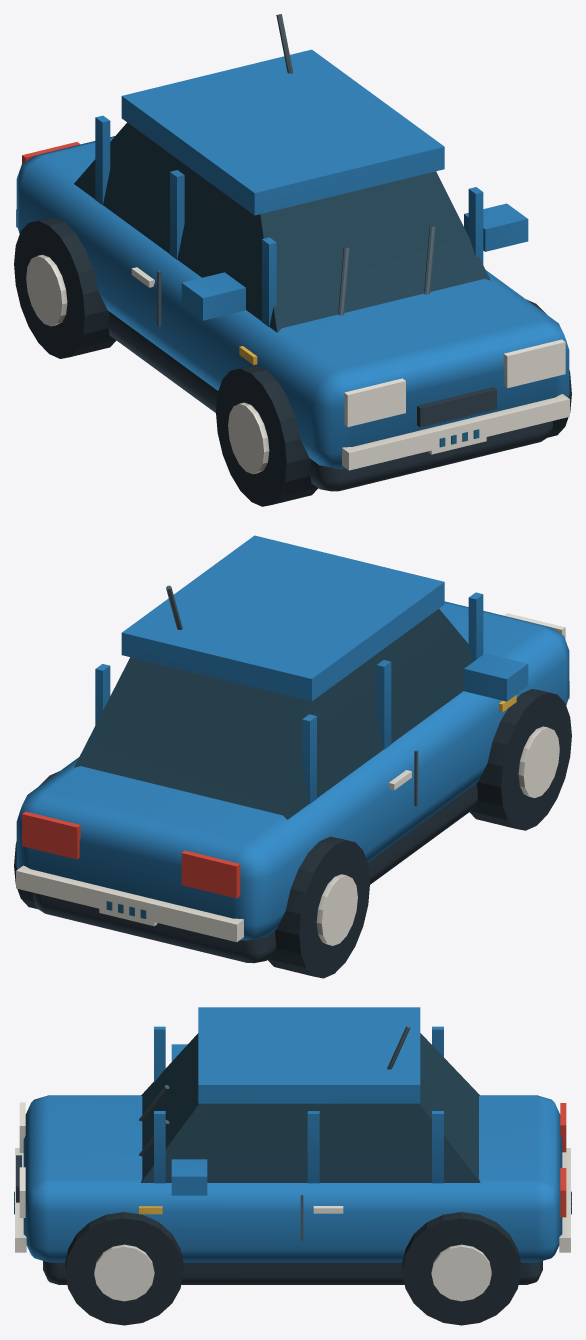
The model's file is car-blue.glb.
The picture shows the model from 3 angles, top to bottom: view 1: azimuth 30°, elevation 25°; view 2: azimuth 150°, elevation 25°; view 3: azimuth 270°, elevation 25°; orthographic projection. The views are drawn at different scales.
Visible parts, largest first — view 1: body, glazed cabin, rubber tire, handle, chassis, windscreen wiper; view 2: body, glazed cabin, rubber tire, handle, chassis, tail light, windscreen wiper; view 3: body, glazed cabin, rubber tire, handle, chassis, windscreen wiper, tail light.
Part boxes in pixels (left/top/right/bottom): body: left=16, top=49, right=569, bottom=468; glazed cabin: left=74, top=122, right=490, bottom=332; rubber tire: left=14, top=217, right=571, bottom=506; handle: left=16, top=209, right=569, bottom=474; chassis: left=108, top=312, right=552, bottom=491; windscreen wiper: left=157, top=14, right=435, bottom=326; body: left=16, top=535, right=569, bottom=940; glazed cabin: left=74, top=609, right=471, bottom=819; rubber tire: left=14, top=689, right=571, bottom=978; handle: left=16, top=613, right=569, bottom=945; chassis: left=33, top=783, right=477, bottom=963; tail light: left=22, top=811, right=240, bottom=898; windscreen wiper: left=166, top=585, right=418, bottom=806; body: left=23, top=1007, right=562, bottom=1262; glazed cabin: left=141, top=1033, right=480, bottom=1182; rubber tire: left=65, top=1212, right=520, bottom=1325; handle: left=15, top=1102, right=570, bottom=1301; chassis: left=16, top=1155, right=542, bottom=1284; windscreen wiper: left=139, top=1026, right=410, bottom=1241; tail light: left=560, top=1103, right=566, bottom=1217.
Size of the model in its own units: 1.06 by 0.983 by 1.89.
